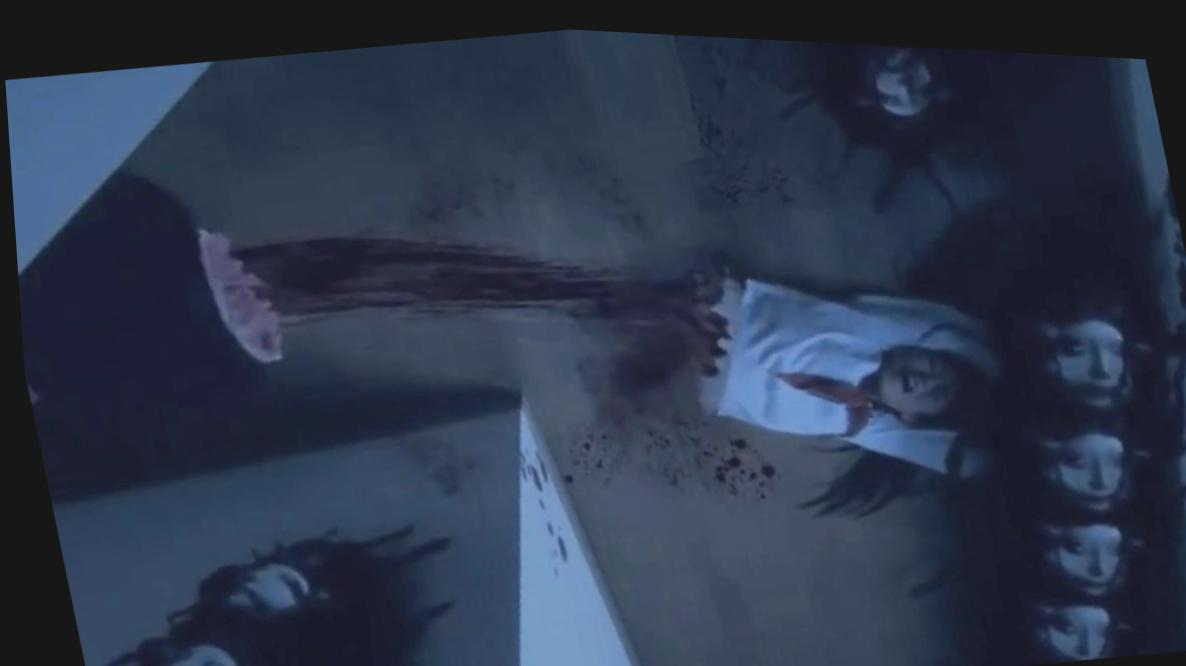Fire: (238, 241, 768, 560)
